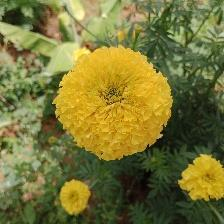marigold: (55, 46, 177, 160)
